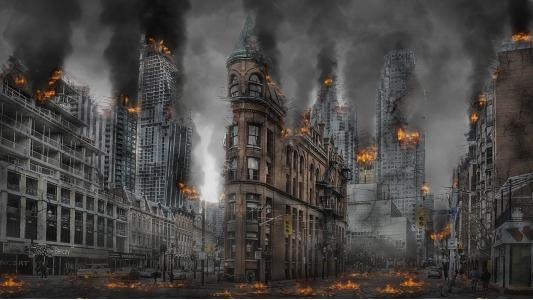fire: (16, 63, 60, 98), (376, 266, 417, 295), (106, 275, 164, 289), (390, 120, 420, 147), (327, 270, 366, 290), (277, 113, 310, 136), (174, 179, 206, 202), (261, 71, 286, 96), (224, 276, 262, 292), (428, 221, 455, 240), (356, 137, 377, 161), (506, 26, 530, 47), (119, 93, 141, 111), (151, 37, 171, 53), (0, 272, 20, 286), (470, 88, 486, 104), (417, 179, 432, 196), (295, 282, 310, 292), (469, 109, 477, 120), (322, 75, 333, 82)
